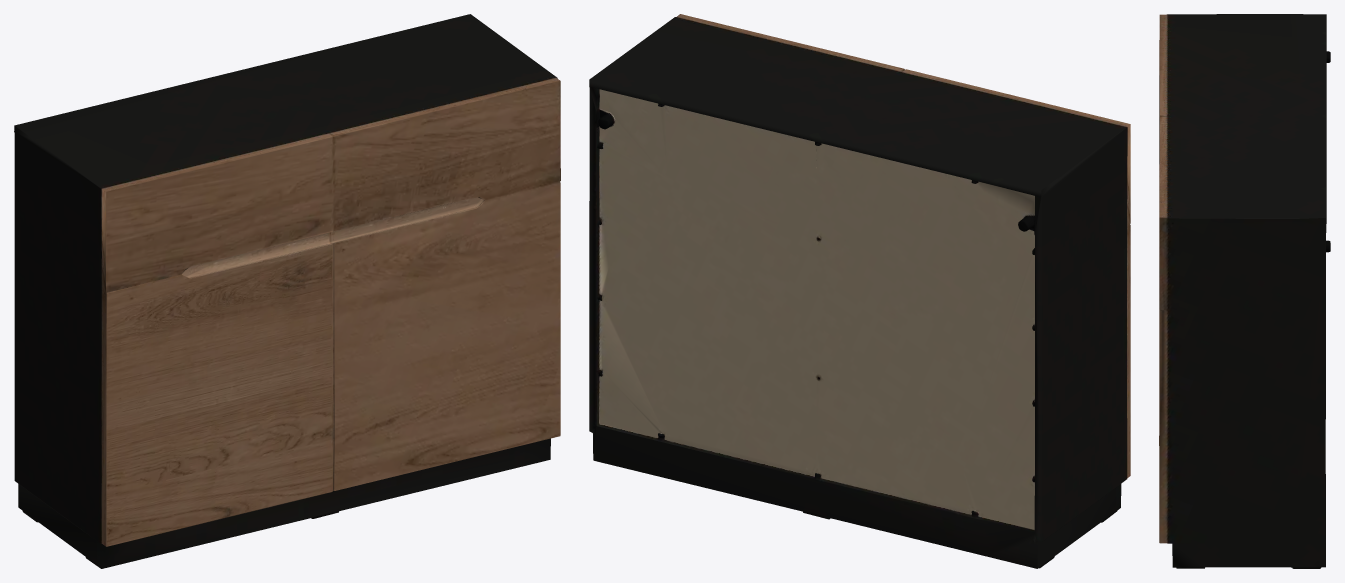
File: 09 - KLACKENÄS - 邊櫃, 黑色實木貼皮, 橡木 棕色 IKEA 線上購物.glb
3 renders of one model, left to right at view 1: azimuth 30°, elevation 25°; view 2: azimuth 150°, elevation 25°; view 3: azimuth 270°, elevation 25°, orthographic. The views are drawn at different scales.
Parts seen in each view (by area): view 1: ProcessedMeshNode; view 2: ProcessedMeshNode; view 3: ProcessedMeshNode.
Boxes of the visible parts, bbox=[...] form: ProcessedMeshNode: bbox=[14, 14, 560, 568]; ProcessedMeshNode: bbox=[589, 14, 1130, 568]; ProcessedMeshNode: bbox=[1159, 14, 1330, 568].
Bounding box in the file's own units: 1.2 × 0.9686 × 0.4265.
1 material, 1 textured.
